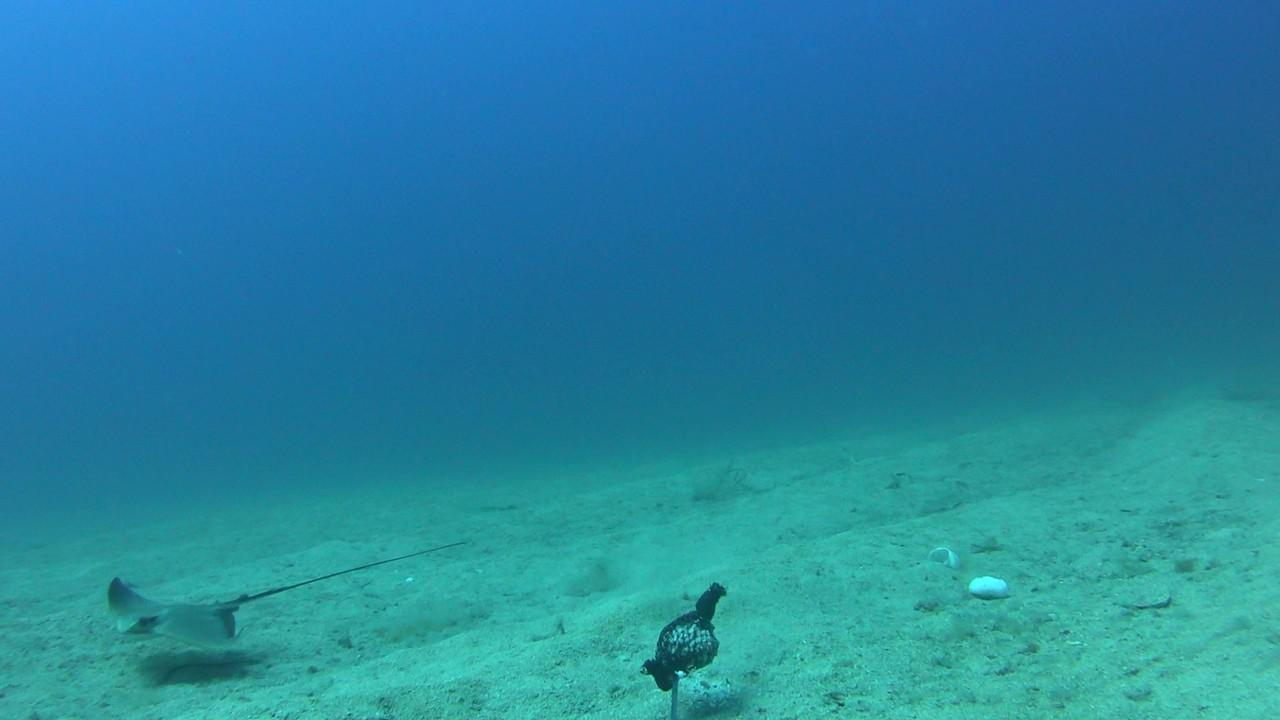myliobatis: (94, 536, 483, 650)
